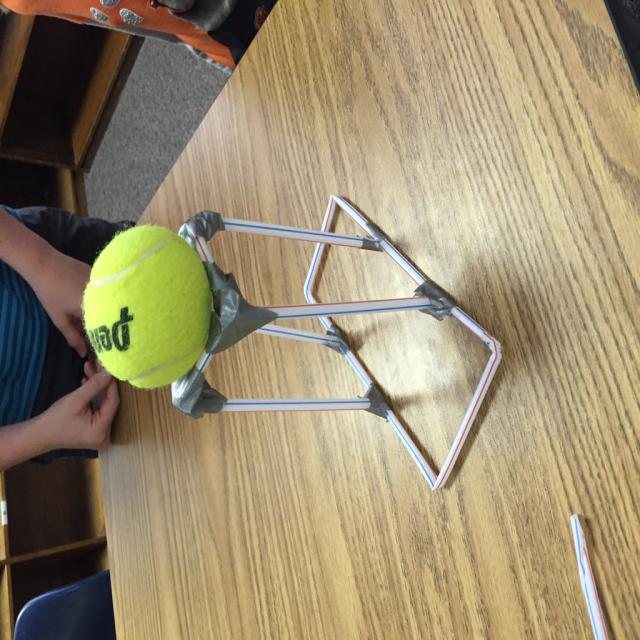Tennis ball: (80, 224, 212, 390)
